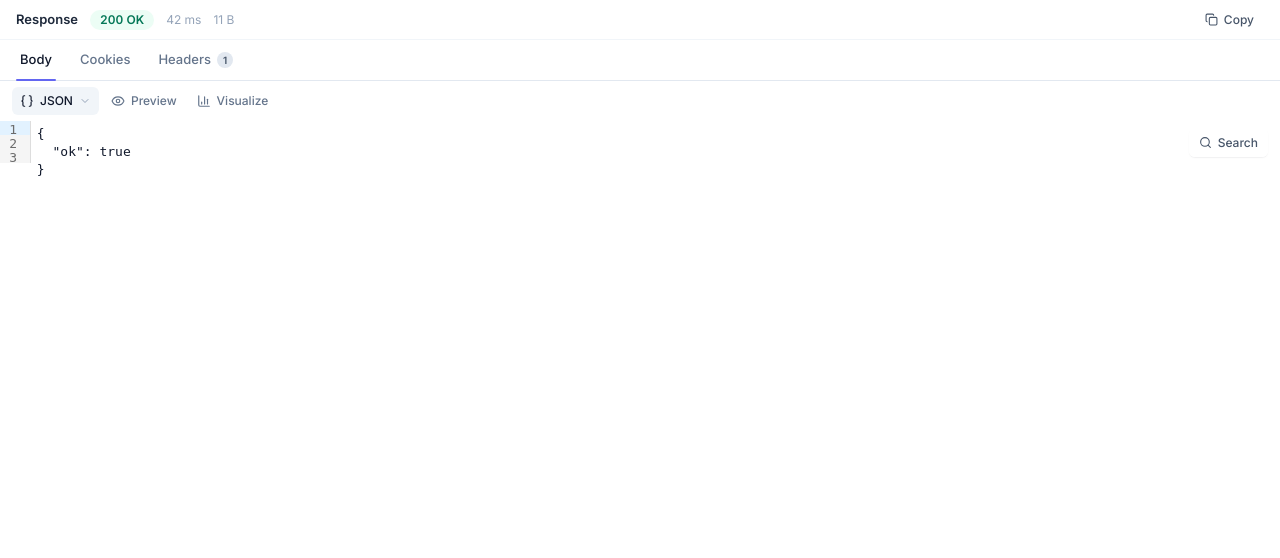
Test: ResponseViewer › says Visualize doesn't apply to a non-array JSON body
Click the button "Visualize" at (232, 100), box [189, 86, 276, 114]
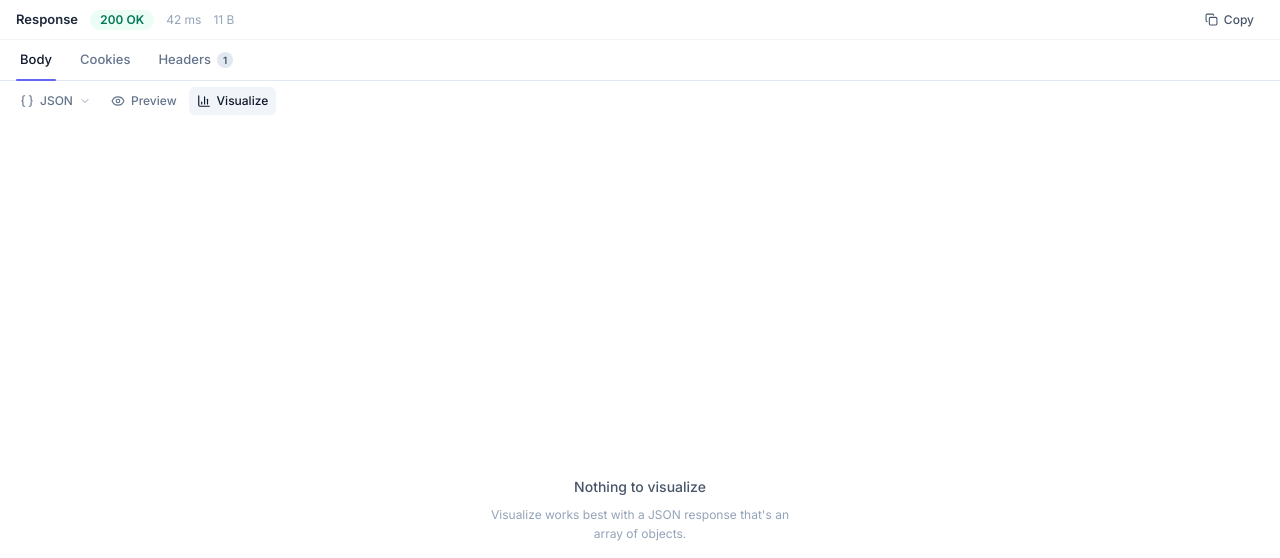
Expected: the text "Nothing to visualize" is shown, [574, 477, 706, 497]
